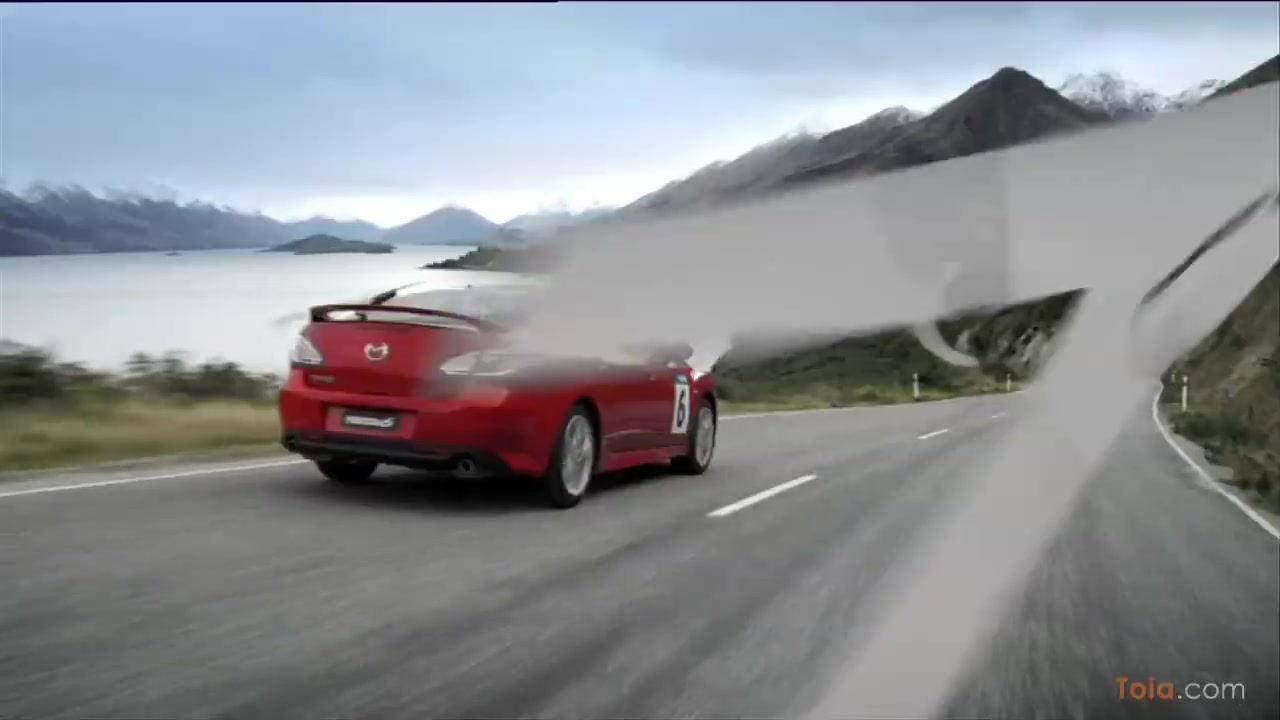car: (275, 272, 725, 503)
